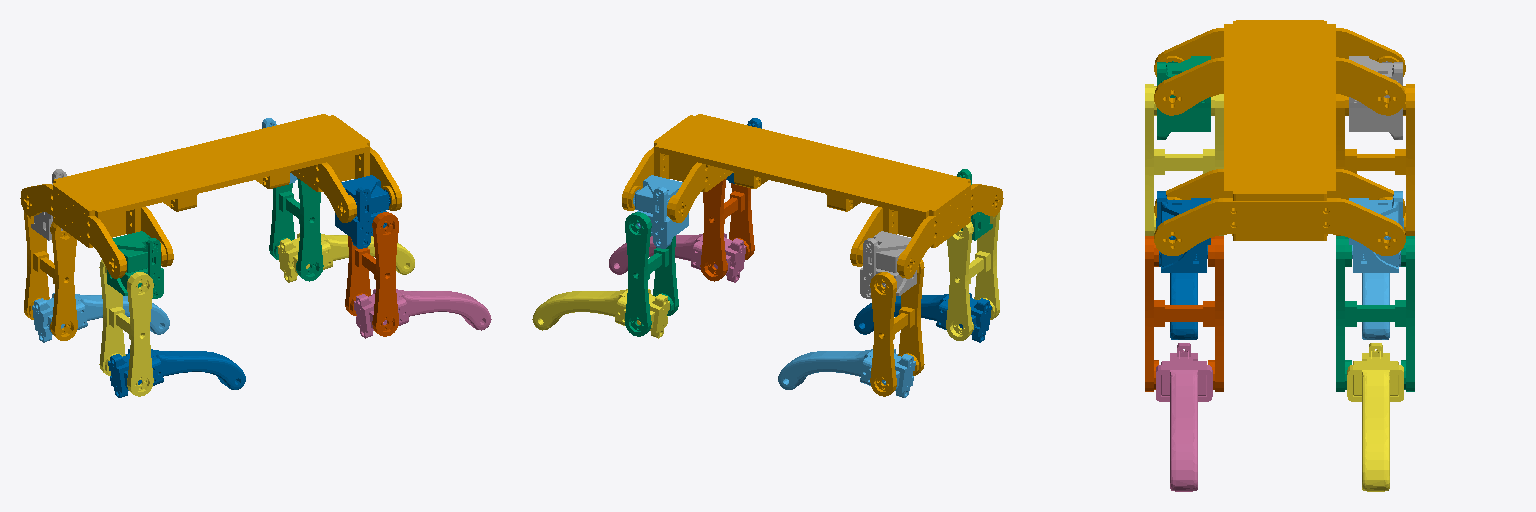
URDF robot description (dog):
<robot name="dog">
  <link name="trunk">
    <inertial>
      <origin xyz="0 0 0.024" rpy="0 0 0" />
      <mass value="0.757692" />
      <inertia ixx="0.0032" ixy="0" ixz="0" iyy="0.009" iyz="0" izz="0.011" />
    </inertial>
    <collision name="trunk_center_collision">
      <origin xyz="0 0 0.0115" rpy="0 0 0" />
      <geometry>
        <box size="0.368 0.092 0.062" />
      </geometry>
    </collision>
    <collision name="trunk_left_collision">
      <origin xyz="0 0.079 0.0115" rpy="0 0 0" />
      <geometry>
        <box size="0.252 0.066 0.062" />
      </geometry>
    </collision>
    <collision name="trunk_right_collision">
      <origin xyz="0 -0.079 0.0115" rpy="0 0 0" />
      <geometry>
        <box size="0.252 0.066 0.062" />
      </geometry>
    </collision>
    <visual>
      <origin xyz="0 0 0" rpy="0 0 0" />
      <geometry>
        <mesh filename="meshes/main_body_1.stl" />
      </geometry>
    </visual>
  </link>
  <link name="FL_hip">
    <inertial>
      <origin xyz="0 0 -0.012" rpy="0 0 0" />
      <mass value="0.1065874" />
      <inertia ixx="0.000052" ixy="0" ixz="0" iyy="0.000052" iyz="0" izz="0.000047" />
    </inertial>
    <visual>
      <origin xyz="0 0 0" rpy="0 0 0" />
      <geometry>
        <mesh filename="meshes/left_front_shoulder_1.stl" />
      </geometry>
    </visual>
  </link>
  <joint name="FL_hip_joint" type="revolute">
    <parent link="trunk" />
    <child link="FL_hip" />
    <origin xyz="0.175033 0.095 -0.002658" rpy="0 0 0" />
    <axis xyz="1 0 0" />
    <limit lower="-0.8" upper="0.8" effort="2.2" velocity="4.717106086471161" />
    <dynamics damping="0.02" friction="0" />
  </joint>
  <link name="FL_thigh">
    <inertial>
      <origin xyz="4.62e-05 -0.0272695 -0.0600465" rpy="0 0 0" />
      <mass value="0.068327" />
      <inertia ixx="0.000171" ixy="0" ixz="0" iyy="0.000117" iyz="0" izz="6.1e-05" />
    </inertial>
    <visual>
      <origin xyz="0 0 0" rpy="0 0 0" />
      <geometry>
        <mesh filename="meshes/left_front_thigh_1.stl" />
      </geometry>
    </visual>
    <collision name="FL_thigh_outer_collision">
      <origin xyz="0 0.0038 -0.06" rpy="0 0 0" />
      <geometry>
        <box size="0.024 0.008 0.14" />
      </geometry>
    </collision>
    <collision name="FL_thigh_inner_collision">
      <origin xyz="0 -0.058 -0.06" rpy="0 0 0" />
      <geometry>
        <box size="0.024 0.008 0.14" />
      </geometry>
    </collision>
    <collision name="FL_thigh_brace_collision">
      <origin xyz="0 -0.0271 -0.06" rpy="-1.570796 0 0" />
      <geometry>
        <cylinder radius="0.004" length="0.0618" />
      </geometry>
    </collision>
  </link>
  <joint name="FL_thigh_joint" type="revolute">
    <parent link="FL_hip" />
    <child link="FL_thigh" />
    <origin xyz="-0.01671 0.01671 -0.02309" rpy="0 0 0" />
    <axis xyz="0 1 0" />
    <limit lower="-1.5" upper="2.5" effort="2.2" velocity="4.717106086471161" />
    <dynamics damping="0.02" friction="0" />
  </joint>
  <link name="FL_calf">
    <inertial>
      <origin xyz="0.00671656 -0.02674668 -0.0588756" rpy="0 0 0" />
      <mass value="0.1392148" />
      <inertia ixx="0.0004059458" ixy="-5.29741e-09" ixz="3.244724e-06" iyy="0.0004066846" iyz="-4.866571e-08" izz="2.673893e-05" />
    </inertial>
    <visual>
      <origin xyz="0 0 0" rpy="0 0 0" />
      <geometry>
        <mesh filename="meshes/left_front_shank_1.stl" />
      </geometry>
    </visual>
    <collision name="FL_foot_collision">
      <origin xyz="0 -0.027151 -0.1392911" rpy="0 0 0" />
      <geometry>
        <sphere radius="0.0135" />
      </geometry>
    </collision>
    <collision name="FL_calf0_collision">
      <origin xyz="0.01065211 -0.027067 -0.059054" rpy="-0.00409601 -0.1140223 0.0002337718" />
      <geometry>
        <cylinder radius="0.013" length="0.09999998" />
      </geometry>
    </collision>
    <collision name="FL_calf1_collision">
      <origin xyz="0.01033476 -0.026802 -0.1195837" rpy="0 0.5450062 0" />
      <geometry>
        <cylinder radius="0.013" length="0.03149297" />
      </geometry>
    </collision>
  </link>
  <joint name="FL_calf_joint" type="revolute">
    <parent link="FL_thigh" />
    <child link="FL_calf" />
    <origin xyz="0 0 -0.12" rpy="0 0 0" />
    <axis xyz="0 1 0" />
    <limit lower="-2.6" upper="-0.05" effort="2.2" velocity="4.717106086471161" />
    <dynamics damping="0.02" friction="0" />
  </joint>
  <link name="FR_hip">
    <inertial>
      <origin xyz="0 0 -0.012" rpy="0 0 0" />
      <mass value="0.1065874" />
      <inertia ixx="0.000052" ixy="0" ixz="0" iyy="0.000052" iyz="0" izz="0.000047" />
    </inertial>
    <visual>
      <origin xyz="0 0 0" rpy="0 0 0" />
      <geometry>
        <mesh filename="meshes/right_front_shoulder_1.stl" />
      </geometry>
    </visual>
  </link>
  <joint name="FR_hip_joint" type="revolute">
    <parent link="trunk" />
    <child link="FR_hip" />
    <origin xyz="0.175033 -0.095 -0.002658" rpy="0 0 0" />
    <axis xyz="1 0 0" />
    <limit lower="-0.8" upper="0.8" effort="2.2" velocity="4.717106086471161" />
    <dynamics damping="0.02" friction="0" />
  </joint>
  <link name="FR_thigh">
    <inertial>
      <origin xyz="4.62e-05 0.0272696 -0.0600465" rpy="0 0 0" />
      <mass value="0.068327" />
      <inertia ixx="0.000171" ixy="0" ixz="0" iyy="0.000117" iyz="0" izz="6.1e-05" />
    </inertial>
    <visual>
      <origin xyz="0 0 0" rpy="0 0 0" />
      <geometry>
        <mesh filename="meshes/right_front_thigh_1.stl" />
      </geometry>
    </visual>
    <collision name="FR_thigh_outer_collision">
      <origin xyz="0 -0.0038 -0.06" rpy="0 0 0" />
      <geometry>
        <box size="0.024 0.008 0.14" />
      </geometry>
    </collision>
    <collision name="FR_thigh_inner_collision">
      <origin xyz="0 0.058 -0.06" rpy="0 0 0" />
      <geometry>
        <box size="0.024 0.008 0.14" />
      </geometry>
    </collision>
    <collision name="FR_thigh_brace_collision">
      <origin xyz="0 0.0271 -0.06" rpy="1.570796 0 0" />
      <geometry>
        <cylinder radius="0.004" length="0.0618" />
      </geometry>
    </collision>
  </link>
  <joint name="FR_thigh_joint" type="revolute">
    <parent link="FR_hip" />
    <child link="FR_thigh" />
    <origin xyz="-0.01671 -0.01671 -0.02309" rpy="0 0 0" />
    <axis xyz="0 1 0" />
    <limit lower="-1.5" upper="2.5" effort="2.2" velocity="4.717106086471161" />
    <dynamics damping="0.02" friction="0" />
  </joint>
  <link name="FR_calf">
    <inertial>
      <origin xyz="0.00671656 0.02679691 -0.0588756" rpy="0 0 0" />
      <mass value="0.1392148" />
      <inertia ixx="0.000405951" ixy="6.732866e-08" ixz="3.244724e-06" iyy="0.0004066846" iyz="6.185281e-07" izz="2.674422e-05" />
    </inertial>
    <visual>
      <origin xyz="0 0 0" rpy="0 0 0" />
      <geometry>
        <mesh filename="meshes/right_front_shank_1.stl" />
      </geometry>
    </visual>
    <collision name="FR_foot_collision">
      <origin xyz="0 0.027151 -0.1392911" rpy="0 0 0" />
      <geometry>
        <sphere radius="0.0135" />
      </geometry>
    </collision>
    <collision name="FR_calf0_collision">
      <origin xyz="0.01065211 0.0275 -0.059054" rpy="-0.00409601 -0.1140223 0.0002337718" />
      <geometry>
        <cylinder radius="0.013" length="0.09999998" />
      </geometry>
    </collision>
    <collision name="FR_calf1_collision">
      <origin xyz="0.01033476 0.0275 -0.1195837" rpy="0 0.5450062 0" />
      <geometry>
        <cylinder radius="0.013" length="0.03149297" />
      </geometry>
    </collision>
  </link>
  <joint name="FR_calf_joint" type="revolute">
    <parent link="FR_thigh" />
    <child link="FR_calf" />
    <origin xyz="0 0 -0.12" rpy="0 0 0" />
    <axis xyz="0 1 0" />
    <limit lower="-2.6" upper="-0.05" effort="2.2" velocity="4.717106086471161" />
    <dynamics damping="0.02" friction="0" />
  </joint>
  <link name="RL_hip">
    <inertial>
      <origin xyz="0 0 -0.012" rpy="0 0 0" />
      <mass value="0.1065874" />
      <inertia ixx="0.000052" ixy="0" ixz="0" iyy="0.000052" iyz="0" izz="0.000047" />
    </inertial>
    <visual>
      <origin xyz="0 0 0" rpy="0 0 0" />
      <geometry>
        <mesh filename="meshes/left_after_shoulder_1.stl" />
      </geometry>
    </visual>
  </link>
  <joint name="RL_hip_joint" type="revolute">
    <parent link="trunk" />
    <child link="RL_hip" />
    <origin xyz="-0.174967 0.095 -0.002658" rpy="0 0 0" />
    <axis xyz="1 0 0" />
    <limit lower="-0.8" upper="0.8" effort="2.2" velocity="4.717106086471161" />
    <dynamics damping="0.02" friction="0" />
  </joint>
  <link name="RL_thigh">
    <inertial>
      <origin xyz="4.62e-05 -0.0272695 -0.0600465" rpy="0 0 0" />
      <mass value="0.068327" />
      <inertia ixx="0.000171" ixy="0" ixz="0" iyy="0.000117" iyz="0" izz="6.1e-05" />
    </inertial>
    <visual>
      <origin xyz="0 0 0" rpy="0 0 0" />
      <geometry>
        <mesh filename="meshes/left_after_thigh_1.stl" />
      </geometry>
    </visual>
    <collision name="RL_thigh_outer_collision">
      <origin xyz="0 0.0038 -0.06" rpy="0 0 0" />
      <geometry>
        <box size="0.024 0.008 0.14" />
      </geometry>
    </collision>
    <collision name="RL_thigh_inner_collision">
      <origin xyz="0 -0.058 -0.06" rpy="0 0 0" />
      <geometry>
        <box size="0.024 0.008 0.14" />
      </geometry>
    </collision>
    <collision name="RL_thigh_brace_collision">
      <origin xyz="0 -0.0271 -0.06" rpy="-1.570796 0 0" />
      <geometry>
        <cylinder radius="0.004" length="0.0618" />
      </geometry>
    </collision>
  </link>
  <joint name="RL_thigh_joint" type="revolute">
    <parent link="RL_hip" />
    <child link="RL_thigh" />
    <origin xyz="0.01671 0.01671 -0.02309" rpy="0 0 0" />
    <axis xyz="0 1 0" />
    <limit lower="-1.5" upper="2.5" effort="2.2" velocity="4.717106086471161" />
    <dynamics damping="0.02" friction="0" />
  </joint>
  <link name="RL_calf">
    <inertial>
      <origin xyz="0.00671656 -0.02674668 -0.0588756" rpy="0 0 0" />
      <mass value="0.1392148" />
      <inertia ixx="0.0004059458" ixy="-5.29741e-09" ixz="3.244724e-06" iyy="0.0004066846" iyz="-4.866571e-08" izz="2.673893e-05" />
    </inertial>
    <visual>
      <origin xyz="0 0 0" rpy="0 0 0" />
      <geometry>
        <mesh filename="meshes/left_after_shank_1.stl" />
      </geometry>
    </visual>
    <collision name="RL_foot_collision">
      <origin xyz="0 -0.027151 -0.1392911" rpy="0 0 0" />
      <geometry>
        <sphere radius="0.0135" />
      </geometry>
    </collision>
    <collision name="RL_calf0_collision">
      <origin xyz="0.01065211 -0.027067 -0.059054" rpy="-0.00409601 -0.1140223 0.0002337718" />
      <geometry>
        <cylinder radius="0.013" length="0.09999998" />
      </geometry>
    </collision>
    <collision name="RL_calf1_collision">
      <origin xyz="0.01033476 -0.026802 -0.1195837" rpy="0 0.5450062 0" />
      <geometry>
        <cylinder radius="0.013" length="0.03149297" />
      </geometry>
    </collision>
  </link>
  <joint name="RL_calf_joint" type="revolute">
    <parent link="RL_thigh" />
    <child link="RL_calf" />
    <origin xyz="0 0 -0.12" rpy="0 0 0" />
    <axis xyz="0 1 0" />
    <limit lower="-2.6" upper="-0.05" effort="2.2" velocity="4.717106086471161" />
    <dynamics damping="0.02" friction="0" />
  </joint>
  <link name="RR_hip">
    <inertial>
      <origin xyz="0 0 -0.012" rpy="0 0 0" />
      <mass value="0.1065874" />
      <inertia ixx="0.000052" ixy="0" ixz="0" iyy="0.000052" iyz="0" izz="0.000047" />
    </inertial>
    <visual>
      <origin xyz="0 0 0" rpy="0 0 0" />
      <geometry>
        <mesh filename="meshes/right_after_shoulder_1.stl" />
      </geometry>
    </visual>
  </link>
  <joint name="RR_hip_joint" type="revolute">
    <parent link="trunk" />
    <child link="RR_hip" />
    <origin xyz="-0.174967 -0.095 -0.002658" rpy="0 0 0" />
    <axis xyz="1 0 0" />
    <limit lower="-0.8" upper="0.8" effort="2.2" velocity="4.717106086471161" />
    <dynamics damping="0.02" friction="0" />
  </joint>
  <link name="RR_thigh">
    <inertial>
      <origin xyz="4.72e-05 0.0272696 -0.0600469" rpy="0 0 0" />
      <mass value="0.068327" />
      <inertia ixx="0.000171" ixy="0" ixz="0" iyy="0.000117" iyz="0" izz="6.1e-05" />
    </inertial>
    <visual>
      <origin xyz="0 0 0" rpy="0 0 0" />
      <geometry>
        <mesh filename="meshes/right_after_thigh_1.stl" />
      </geometry>
    </visual>
    <collision name="RR_thigh_outer_collision">
      <origin xyz="0 -0.0038 -0.06" rpy="0 0 0" />
      <geometry>
        <box size="0.024 0.008 0.14" />
      </geometry>
    </collision>
    <collision name="RR_thigh_inner_collision">
      <origin xyz="0 0.058 -0.06" rpy="0 0 0" />
      <geometry>
        <box size="0.024 0.008 0.14" />
      </geometry>
    </collision>
    <collision name="RR_thigh_brace_collision">
      <origin xyz="0 0.0271 -0.06" rpy="1.570796 0 0" />
      <geometry>
        <cylinder radius="0.004" length="0.0618" />
      </geometry>
    </collision>
  </link>
  <joint name="RR_thigh_joint" type="revolute">
    <parent link="RR_hip" />
    <child link="RR_thigh" />
    <origin xyz="0.01671 -0.01671 -0.02309" rpy="0 0 0" />
    <axis xyz="0 1 0" />
    <limit lower="-1.5" upper="2.5" effort="2.2" velocity="4.717106086471161" />
    <dynamics damping="0.02" friction="0" />
  </joint>
  <link name="RR_calf">
    <inertial>
      <origin xyz="0.006716514 0.02679691 -0.05887552" rpy="0 0 0" />
      <mass value="0.1392148" />
      <inertia ixx="0.0004059512" ixy="6.732831e-08" ixz="3.244757e-06" iyy="0.0004066847" iyz="6.185287e-07" izz="2.674421e-05" />
    </inertial>
    <visual>
      <origin xyz="0 0 0" rpy="0 0 0" />
      <geometry>
        <mesh filename="meshes/right_after_shank_1.stl" />
      </geometry>
    </visual>
    <collision name="RR_foot_collision">
      <origin xyz="0 0.027151 -0.1392911" rpy="0 0 0" />
      <geometry>
        <sphere radius="0.0135" />
      </geometry>
    </collision>
    <collision name="RR_calf0_collision">
      <origin xyz="0.01065211 0.0275 -0.059054" rpy="-0.00409601 -0.1140223 0.0002337718" />
      <geometry>
        <cylinder radius="0.013" length="0.09999998" />
      </geometry>
    </collision>
    <collision name="RR_calf1_collision">
      <origin xyz="0.01033476 0.0275 -0.1195837" rpy="0 0.5450062 0" />
      <geometry>
        <cylinder radius="0.013" length="0.03149297" />
      </geometry>
    </collision>
  </link>
  <joint name="RR_calf_joint" type="revolute">
    <parent link="RR_thigh" />
    <child link="RR_calf" />
    <origin xyz="0 0 -0.12" rpy="0 0 0" />
    <axis xyz="0 1 0" />
    <limit lower="-2.6" upper="-0.05" effort="2.2" velocity="4.717106086471161" />
    <dynamics damping="0.02" friction="0" />
  </joint>
</robot>

--- Render facts (derived) ---
3 views of the same robot in one strip: view 1: azimuth 30°, elevation 25°; view 2: azimuth 150°, elevation 25°; view 3: azimuth 270°, elevation 25° (orthographic).
Robot: dog — 13 links, 12 joints (12 revolute); root link trunk; default pose: all joints at 0 but 4 set to mid-range because 0 is outside their limits (FL_calf_joint = -1.32, FR_calf_joint = -1.32, RL_calf_joint = -1.32, RR_calf_joint = -1.32).
Visible links, largest first — view 1: trunk, RR_thigh, RL_thigh, FR_thigh, FL_thigh, FR_calf, RR_calf, FR_hip, RR_hip, RL_calf, FL_calf, RL_hip; view 2: trunk, RL_thigh, RR_thigh, FL_thigh, FR_thigh, FL_calf, RL_calf, FL_hip, RL_hip, RR_calf, FR_calf, RR_hip; view 3: trunk, FL_calf, FR_calf, FL_thigh, FR_thigh, RL_thigh, RR_thigh, RL_hip, RR_hip, FL_hip, FR_hip, RL_calf (+1 smaller).
Boxes of the visible links, x1=… form: trunk: x1=20, y1=114, x2=401, y2=278; RR_thigh: x1=99, y1=260, x2=153, y2=396; RL_thigh: x1=24, y1=212, x2=77, y2=340; FR_thigh: x1=345, y1=212, x2=398, y2=336; FL_thigh: x1=269, y1=178, x2=323, y2=281; FR_calf: x1=354, y1=289, x2=491, y2=338; RR_calf: x1=108, y1=349, x2=245, y2=397; FR_hip: x1=335, y1=175, x2=390, y2=248; RR_hip: x1=107, y1=231, x2=163, y2=298; RL_calf: x1=32, y1=293, x2=169, y2=342; FL_calf: x1=277, y1=233, x2=414, y2=282; RL_hip: x1=31, y1=169, x2=66, y2=240; trunk: x1=622, y1=114, x2=1003, y2=278; RL_thigh: x1=870, y1=260, x2=924, y2=396; RR_thigh: x1=946, y1=212, x2=999, y2=340; FL_thigh: x1=625, y1=212, x2=678, y2=336; FR_thigh: x1=700, y1=178, x2=754, y2=281; FL_calf: x1=532, y1=289, x2=669, y2=338; RL_calf: x1=778, y1=349, x2=915, y2=397; FL_hip: x1=633, y1=175, x2=688, y2=248; RL_hip: x1=860, y1=231, x2=916, y2=298; RR_calf: x1=854, y1=293, x2=991, y2=342; FR_calf: x1=609, y1=233, x2=746, y2=282; RR_hip: x1=957, y1=169, x2=992, y2=240; trunk: x1=1154, y1=20, x2=1405, y2=255; FL_calf: x1=1347, y1=343, x2=1403, y2=491; FR_calf: x1=1156, y1=343, x2=1212, y2=491; FL_thigh: x1=1336, y1=236, x2=1414, y2=391; FR_thigh: x1=1145, y1=236, x2=1223, y2=391; RL_thigh: x1=1336, y1=84, x2=1414, y2=235; RR_thigh: x1=1145, y1=84, x2=1223, y2=235; RL_hip: x1=1349, y1=56, x2=1402, y2=139; RR_hip: x1=1157, y1=56, x2=1210, y2=139; FL_hip: x1=1349, y1=191, x2=1402, y2=272; FR_hip: x1=1157, y1=191, x2=1210, y2=272; RL_calf: x1=1362, y1=218, x2=1403, y2=339.
Bounding box of the posed robot: 0.4884 × 0.239 × 0.2368 m (x, y, z).
Meshes: 13 distinct files referenced, 13 mesh visuals loaded (13 binary STL).
